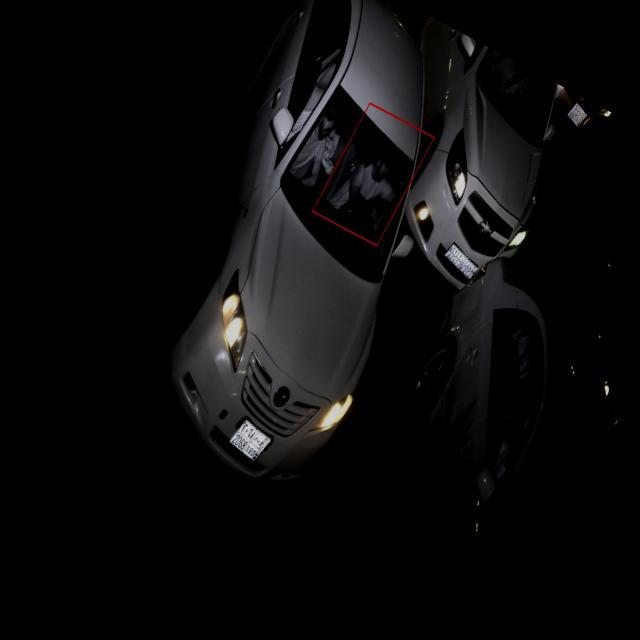windshield: (276, 83, 416, 289)
